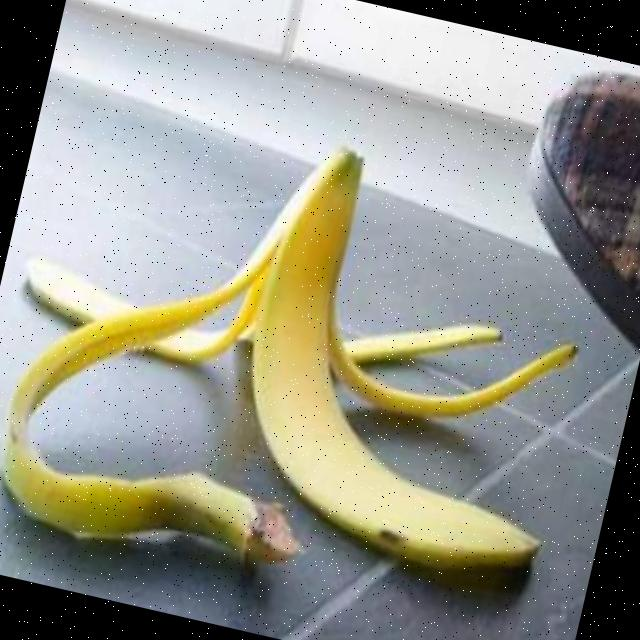banana-peel: (0, 80, 619, 640)
